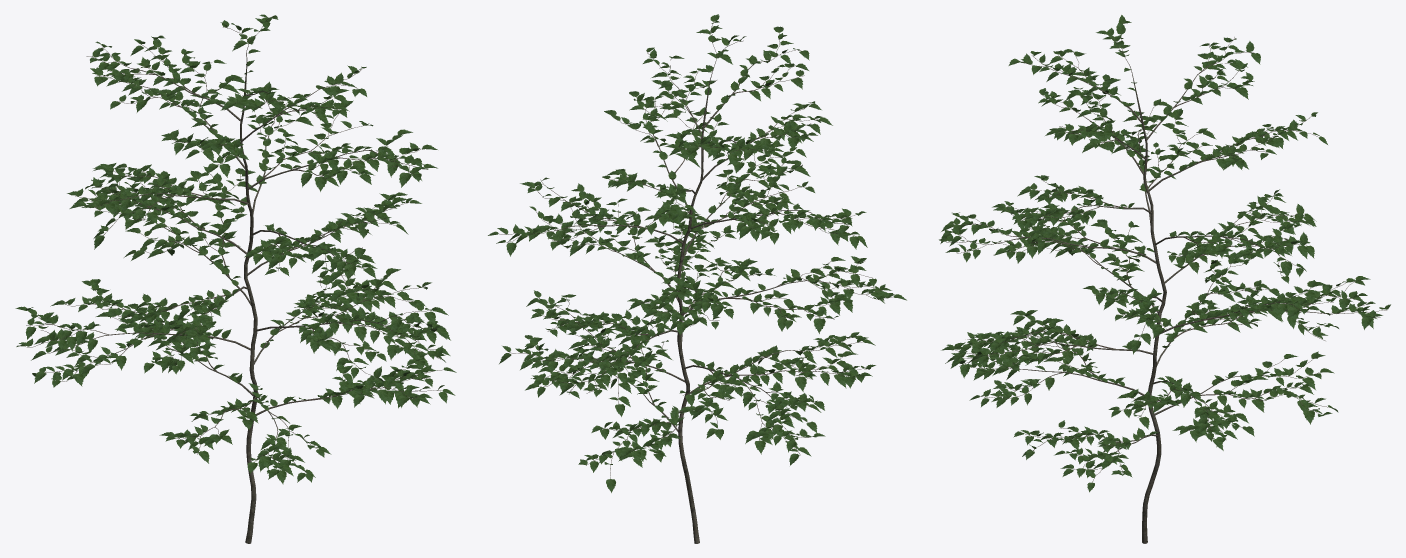
The model's file is garden_forest_bush_03.glb.
3 renders of one model, left to right at view 1: azimuth 30°, elevation 25°; view 2: azimuth 150°, elevation 25°; view 3: azimuth 270°, elevation 25°, orthographic. The views are drawn at different scales.
Visible parts, largest first — view 1: garden_forest_bush_03__lod0; view 2: garden_forest_bush_03__lod0; view 3: garden_forest_bush_03__lod0.
Boxes of the visible parts, x1,y1,x2,y2 form: garden_forest_bush_03__lod0: (15, 14, 456, 543); garden_forest_bush_03__lod0: (488, 14, 906, 543); garden_forest_bush_03__lod0: (939, 15, 1390, 543).
Size of what is drawn, in the model's own units: 1.21 by 1.75 by 1.41.
Materials: 3 (3 with a texture image).
